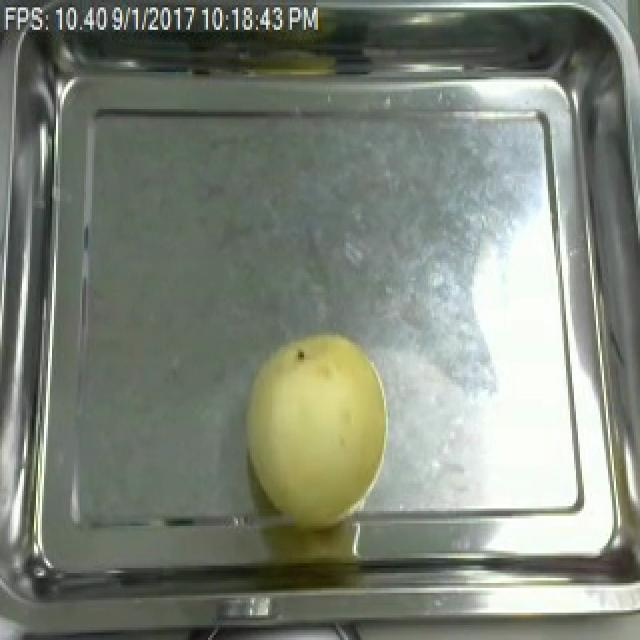Fruit: (238, 325, 398, 531)
